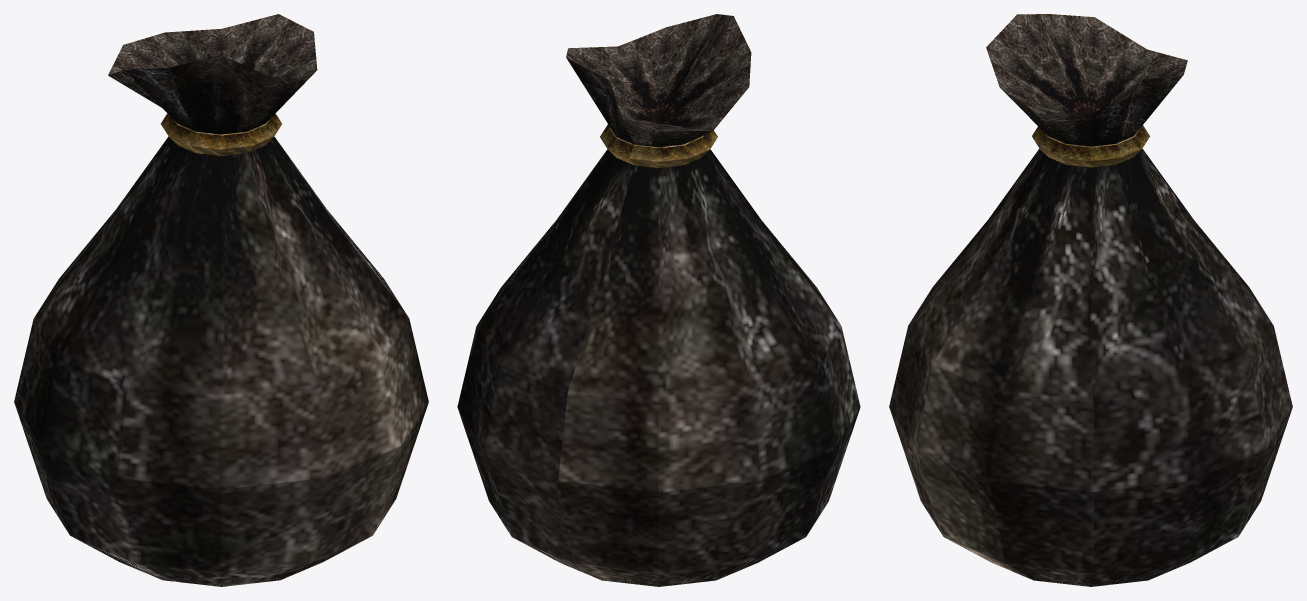
Rendered from ITMI_POCKET.glb.
3 views of the same model, side by side, from view 1: azimuth 30°, elevation 25°; view 2: azimuth 150°, elevation 25°; view 3: azimuth 270°, elevation 25° (orthographic). The views are drawn at different scales.
Visible parts, largest first — view 1: ITMI_POCKET; view 2: ITMI_POCKET; view 3: ITMI_POCKET.
Part boxes in pixels (x1=…): ITMI_POCKET: x1=14, y1=14, x2=428, y2=586; ITMI_POCKET: x1=457, y1=14, x2=860, y2=586; ITMI_POCKET: x1=889, y1=14, x2=1292, y2=586.
Size of the model in its own units: 0.2801 by 0.3871 by 0.2801.
Materials: 2 (2 with a texture image).
